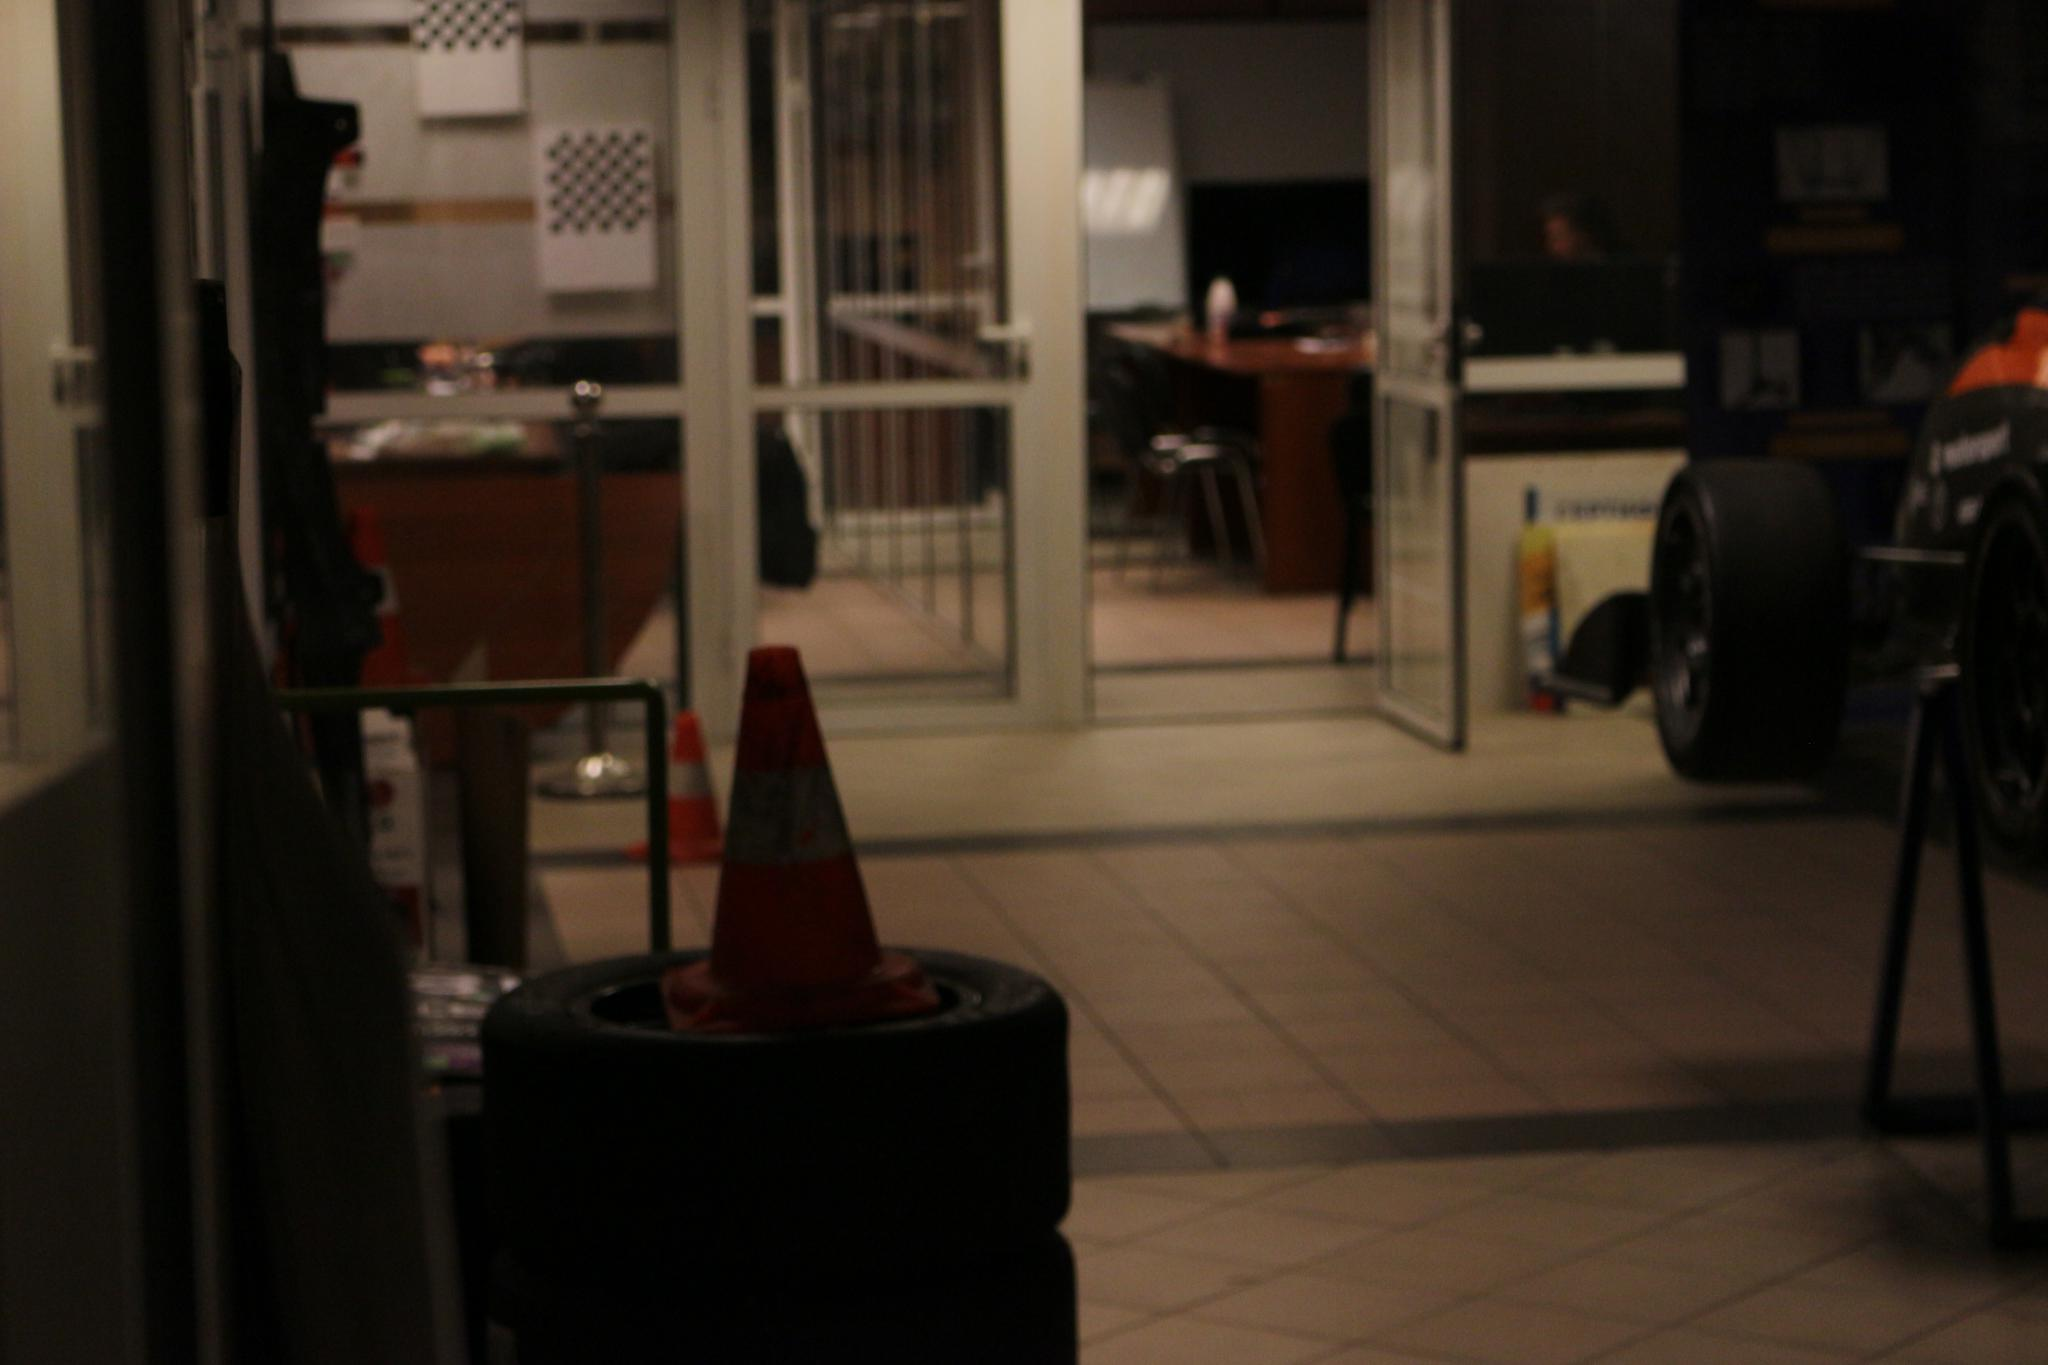Orange_Cone: (660, 612, 940, 1019), (623, 700, 739, 865), (339, 485, 429, 694)
